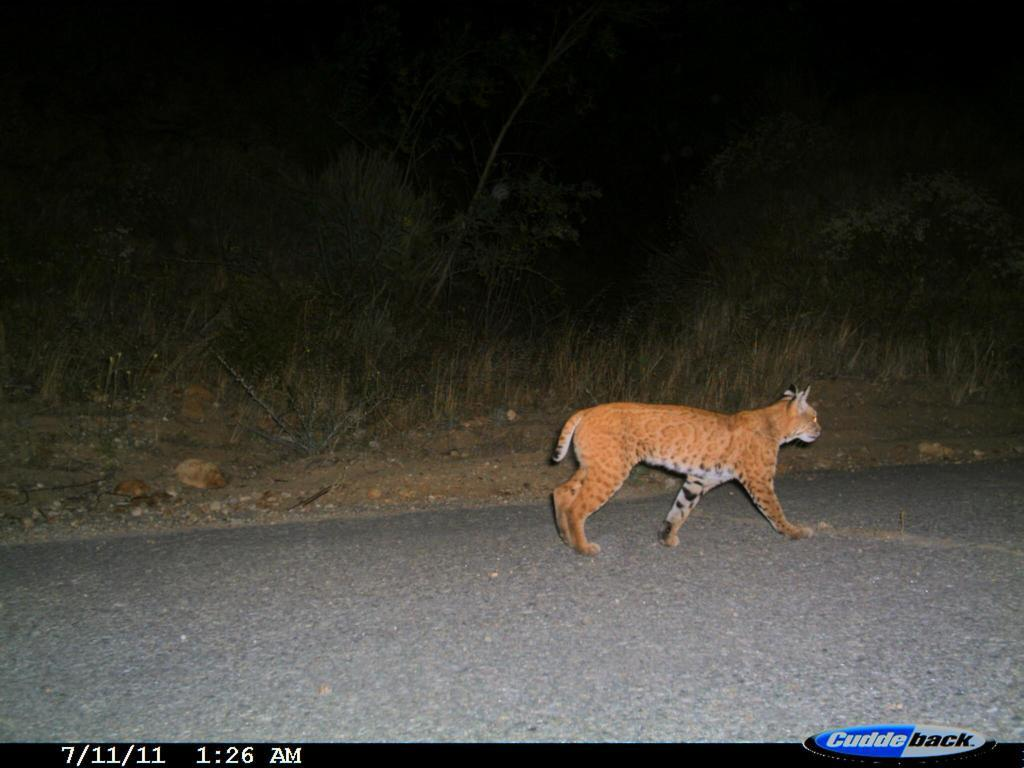bobcat: (545, 379, 826, 557)
